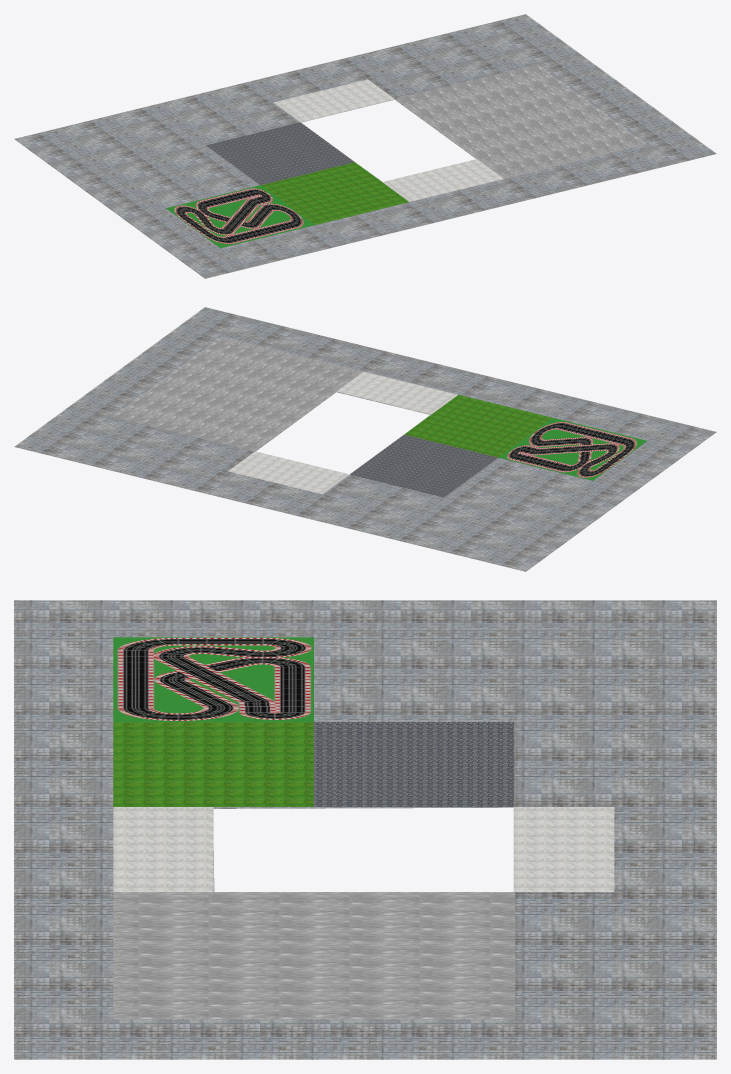
The model's file is mapa.obj.
3 renders of one model, top to bottom at view 1: azimuth 30°, elevation 25°; view 2: azimuth 150°, elevation 25°; view 3: azimuth 270°, elevation 25°, orthographic. The views are drawn at different scales.
Visible parts, largest first — view 1: piso, Pista, Plane001, Espacial, Automoviles, Comedor, Recepcion; view 2: piso, Pista, Espacial, Plane001, Automoviles, Comedor, Recepcion; view 3: piso, Pista, Espacial, Automoviles, Plane001, Comedor, Recepcion.
Boxes of the visible parts, <box> form: piso: <box>14,14,716,278</box>; Pista: <box>395,64,645,178</box>; Plane001: <box>166,185,314,247</box>; Espacial: <box>206,122,354,185</box>; Automoviles: <box>261,162,408,224</box>; Comedor: <box>274,79,394,122</box>; Recepcion: <box>382,159,503,201</box>; piso: <box>14,307,716,571</box>; Pista: <box>113,337,363,451</box>; Espacial: <box>350,434,498,497</box>; Plane001: <box>498,418,647,480</box>; Automoviles: <box>404,394,552,457</box>; Comedor: <box>228,451,349,494</box>; Recepcion: <box>337,371,457,414</box>; piso: <box>14,600,716,1059</box>; Pista: <box>113,892,514,1019</box>; Espacial: <box>313,722,514,806</box>; Automoviles: <box>113,722,313,806</box>; Plane001: <box>113,637,313,721</box>; Comedor: <box>513,807,614,891</box>; Recepcion: <box>113,807,213,891</box>.
Size of the model in its own units: 108 by 0.1138 by 70.
Materials: 6 (6 with a texture image).
